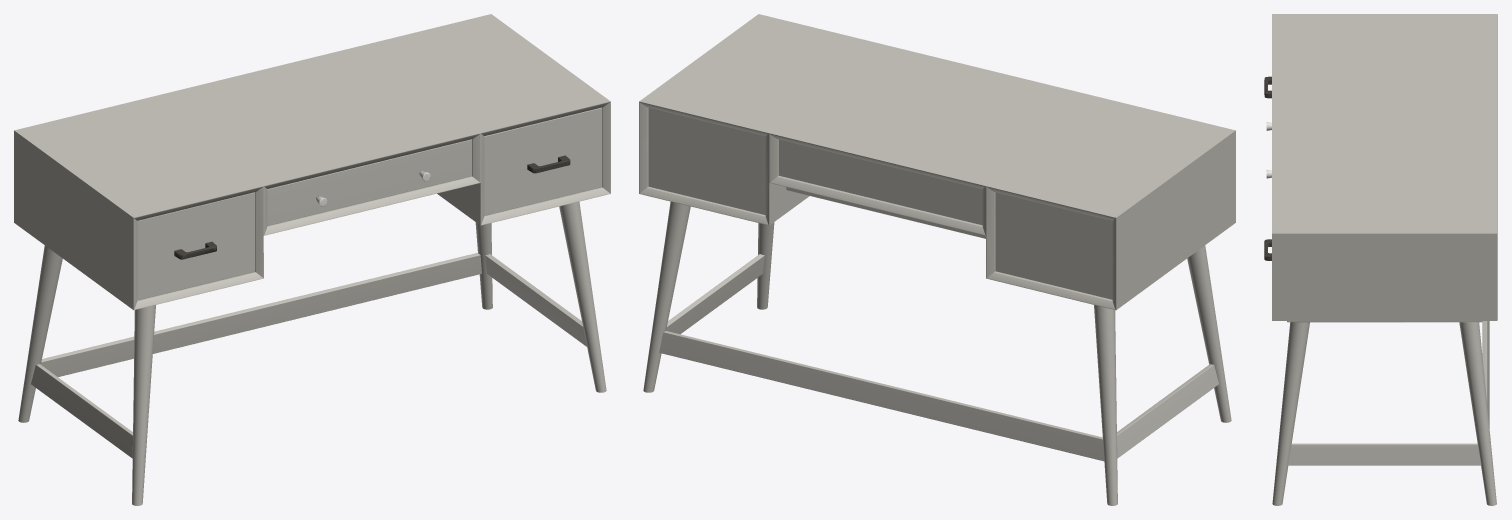
The model's file is desk.glb.
The picture shows the model from 3 angles, left to right: view 1: azimuth 30°, elevation 25°; view 2: azimuth 150°, elevation 25°; view 3: azimuth 270°, elevation 25°; orthographic projection. The views are drawn at different scales.
Parts seen in each view (by area): view 1: RootNode; view 2: RootNode; view 3: RootNode.
Boxes of the visible parts, bbox=[...] form: RootNode: bbox=[14, 14, 610, 505]; RootNode: bbox=[639, 14, 1235, 505]; RootNode: bbox=[1264, 14, 1497, 505].
Size of the model in its own units: 1.31 by 0.7616 by 0.5887.
Materials: 1 (1 with a texture image).
